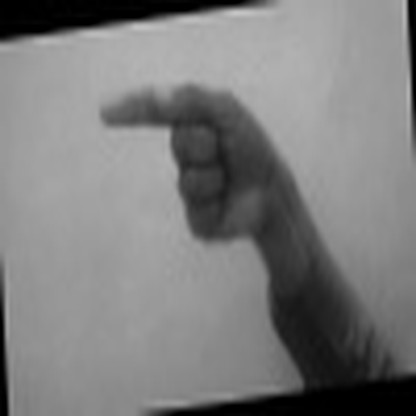g: (87, 68, 290, 249)
